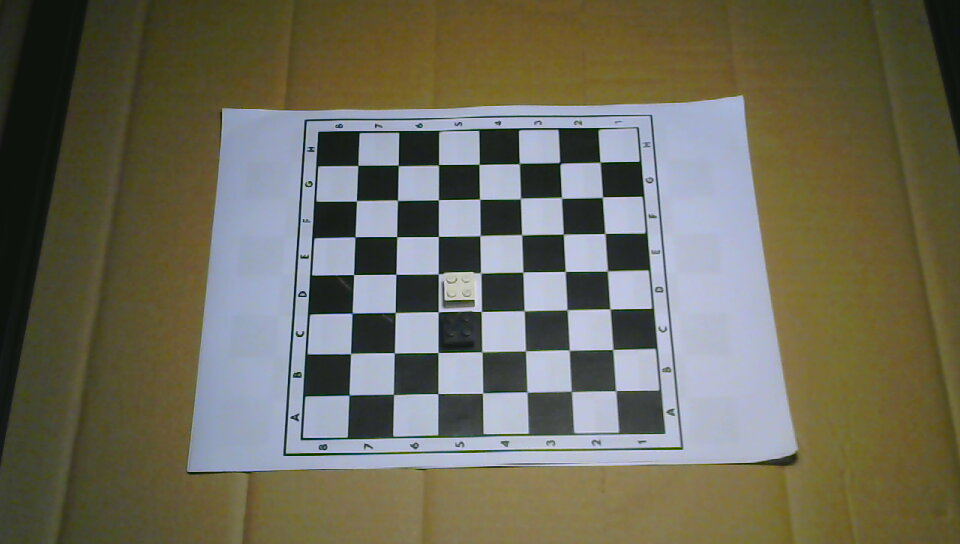bp: (440, 312, 475, 348)
wp: (441, 272, 477, 308)
